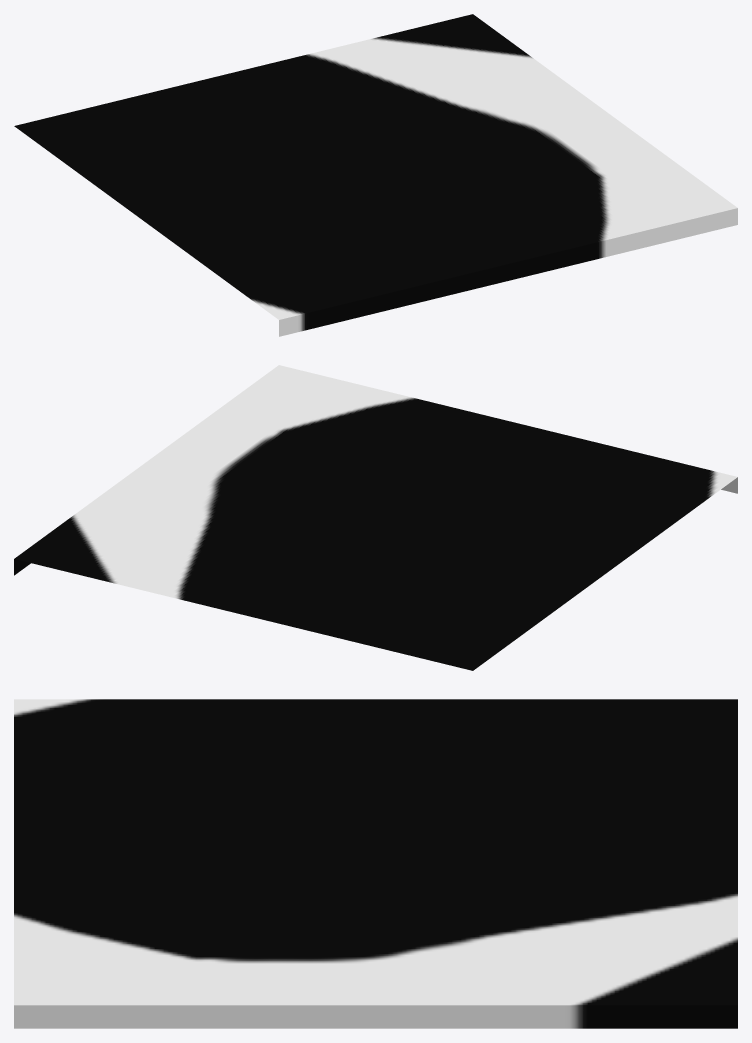
The model's file is SM_Carpet_1mSide.fbx.
The picture shows the model from 3 angles, top to bottom: view 1: azimuth 30°, elevation 25°; view 2: azimuth 150°, elevation 25°; view 3: azimuth 270°, elevation 25°; orthographic projection. The views are drawn at different scales.
Parts seen in each view (by area): view 1: SM_Carpet_1mSide; view 2: SM_Carpet_1mSide; view 3: SM_Carpet_1mSide.
Boxes of the visible parts, x1=… form: SM_Carpet_1mSide: x1=14, y1=14, x2=737, y2=336; SM_Carpet_1mSide: x1=14, y1=365, x2=737, y2=670; SM_Carpet_1mSide: x1=14, y1=699, x2=737, y2=1028.
Bounding box in the file's own units: 1 × 0.0351 × 1.
